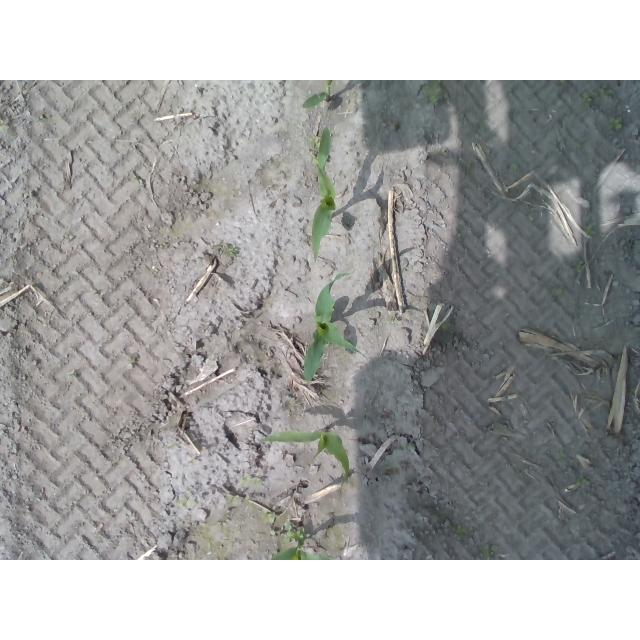Maize: (303, 269, 372, 383), (263, 429, 350, 488), (310, 125, 338, 264), (269, 532, 330, 561), (303, 80, 334, 108)
Weeds: (422, 81, 442, 103), (479, 541, 499, 559), (281, 524, 295, 545), (222, 245, 239, 256), (610, 118, 623, 131), (307, 137, 320, 149), (262, 510, 274, 522), (308, 154, 319, 167), (579, 93, 593, 103), (584, 224, 596, 234)
